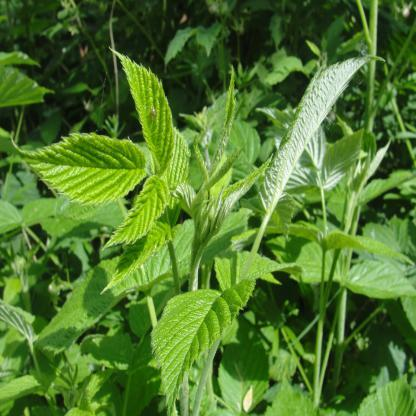Raspberry leaf: (148, 271, 262, 416), (1, 128, 144, 204), (107, 42, 180, 182), (98, 222, 175, 292), (105, 173, 173, 249)
